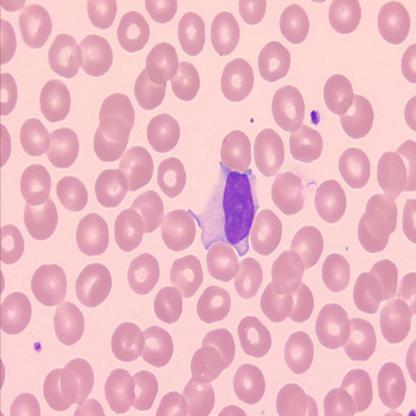Atypical lymphocyte: (186, 158, 264, 260)
